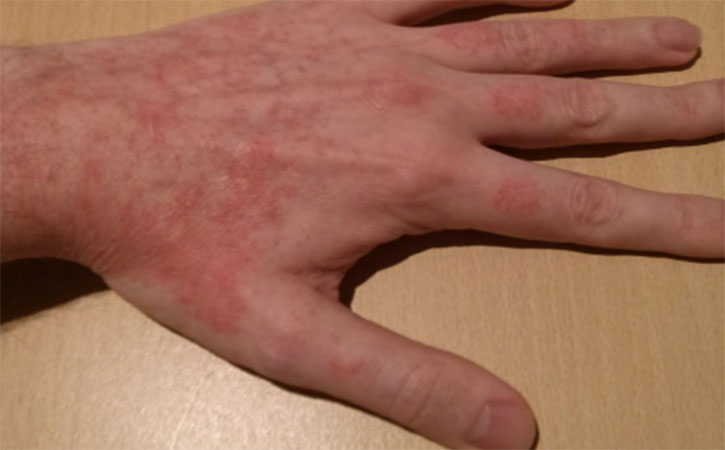Diseased: (20, 32, 385, 332)
